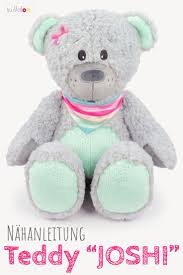teddy: (6, 8, 179, 223)
